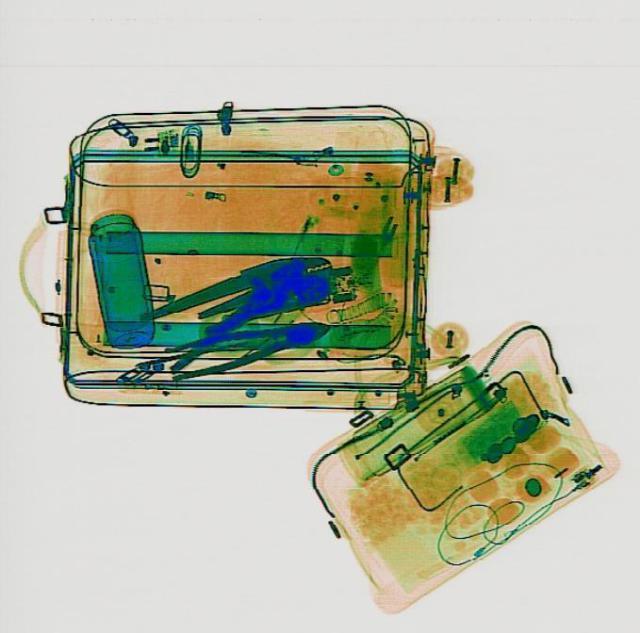Pliers: (130, 239, 344, 358), (158, 308, 334, 381)
